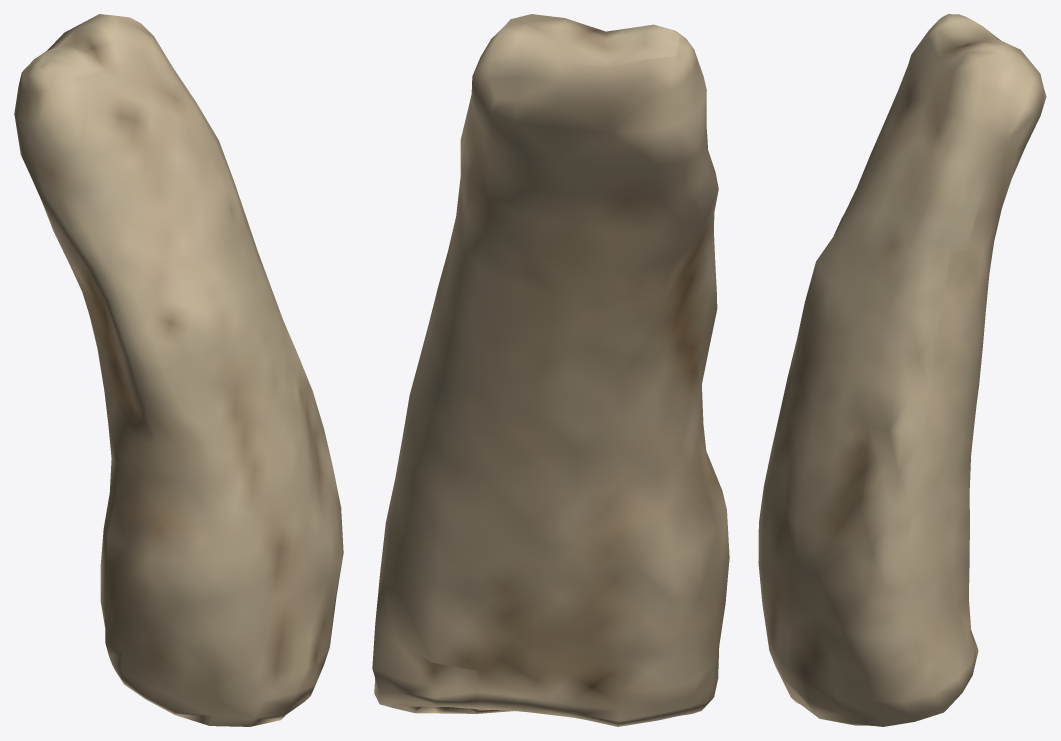
Rendered from Upper_Incisor5.glb.
3 renders of one model, left to right at view 1: azimuth 30°, elevation 25°; view 2: azimuth 150°, elevation 25°; view 3: azimuth 270°, elevation 25°, orthographic. The views are drawn at different scales.
Visible parts, largest first — view 1: Group64863_Mesh.039; view 2: Group64863_Mesh.039; view 3: Group64863_Mesh.039.
Part boxes in pixels (x1=…): Group64863_Mesh.039: x1=14, y1=14, x2=343, y2=726; Group64863_Mesh.039: x1=372, y1=14, x2=729, y2=726; Group64863_Mesh.039: x1=758, y1=14, x2=1046, y2=726.
Size of the model in its own units: 0.0147 by 0.0319 by 0.0134.
1 material, 1 textured.
